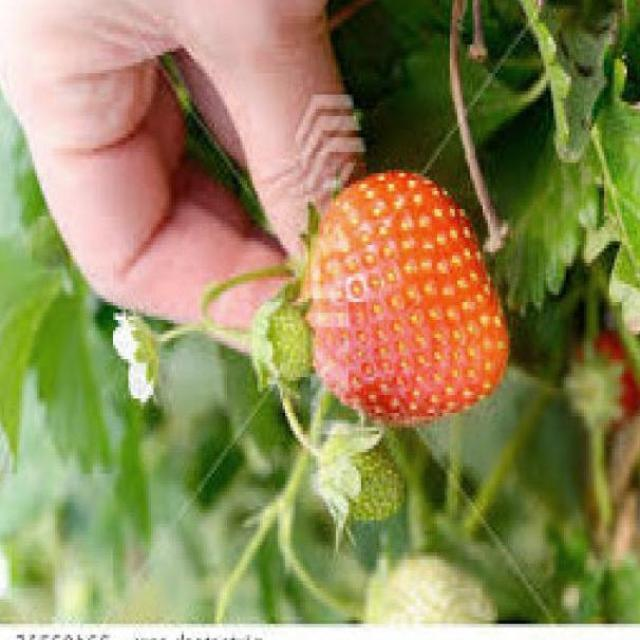Healthy Fruit: (300, 168, 510, 428)
